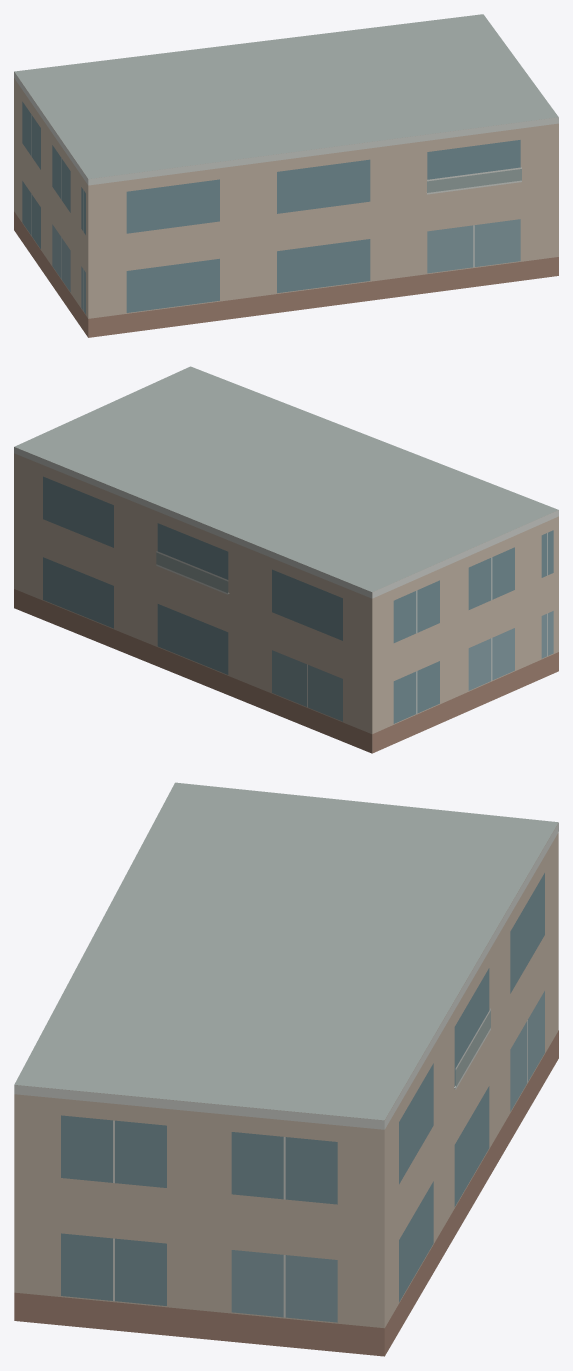
Rendered from survey-upis-32528104.glb.
The picture shows the model from 3 angles, top to bottom: view 1: azimuth 30°, elevation 25°; view 2: azimuth 150°, elevation 25°; view 3: azimuth 270°, elevation 25°; orthographic projection. The views are drawn at different scales.
Parts seen in each view (by area): view 1: survey-upis-32528104.tmp; view 2: survey-upis-32528104.tmp; view 3: survey-upis-32528104.tmp.
Part boxes in pixels (x1,y1,x2,y2): survey-upis-32528104.tmp: (14, 14, 558, 337); survey-upis-32528104.tmp: (14, 366, 558, 753); survey-upis-32528104.tmp: (14, 782, 558, 1356).
Size of the model in its own units: 18.74 by 6.1 by 12.77.
